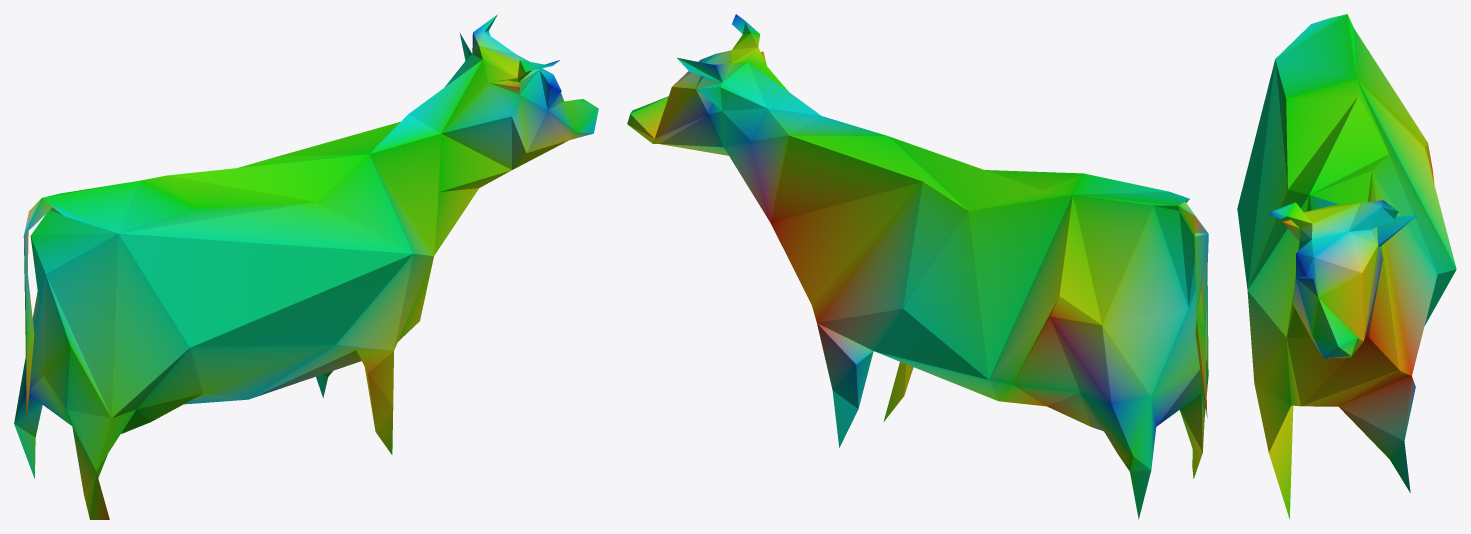
The model's file is cow_msdm2_reference.obj.
The picture shows the model from 3 angles, left to right: view 1: azimuth 30°, elevation 25°; view 2: azimuth 150°, elevation 25°; view 3: azimuth 270°, elevation 25°; orthographic projection. The views are drawn at different scales.
Bounding box in the file's own units: 1.57 × 0.9518 × 0.4853.
